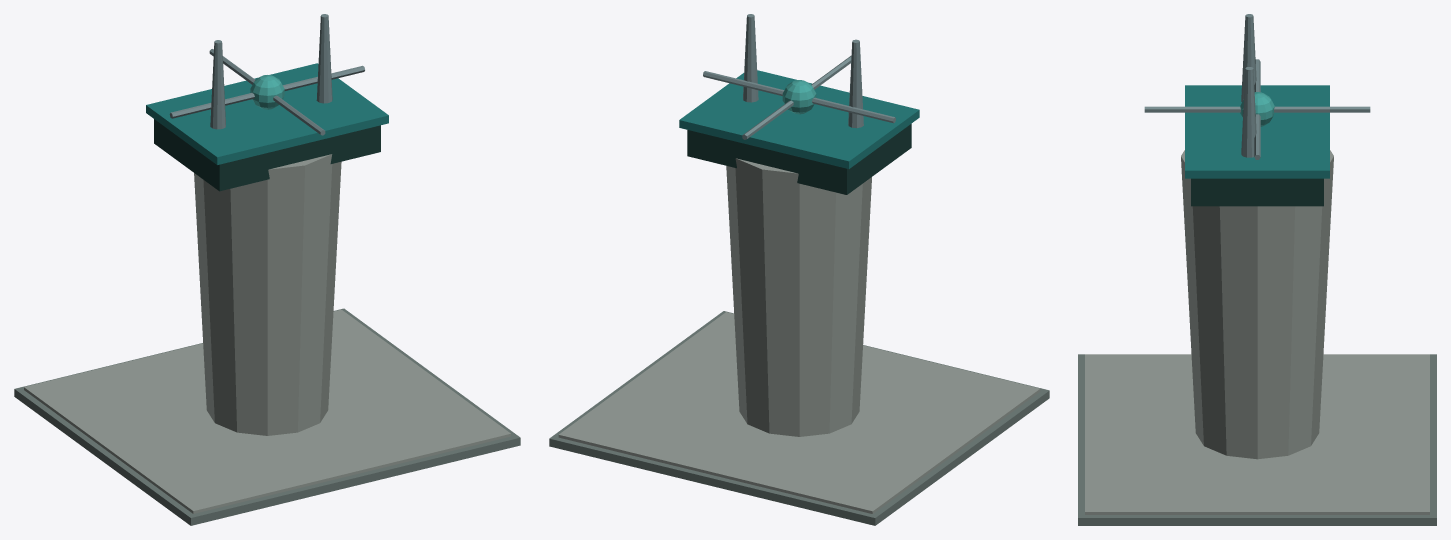
File: defense_tower_lv1.glb
3 views of the same model, side by side, from view 1: azimuth 30°, elevation 25°; view 2: azimuth 150°, elevation 25°; view 3: azimuth 270°, elevation 25° (orthographic). The views are drawn at different scales.
Parts seen in each view (by area): view 1: rough, metallic; view 2: rough, metallic; view 3: rough, metallic.
Part boxes in pixels (x1,y1,x2,y2): rough: (14, 63, 520, 525); metallic: (169, 14, 364, 135); rough: (549, 70, 1049, 525); metallic: (703, 14, 895, 139); rough: (1078, 85, 1436, 525); metallic: (1144, 14, 1370, 159).
Size of the model in its own units: 9.6 by 11 by 8.9.
